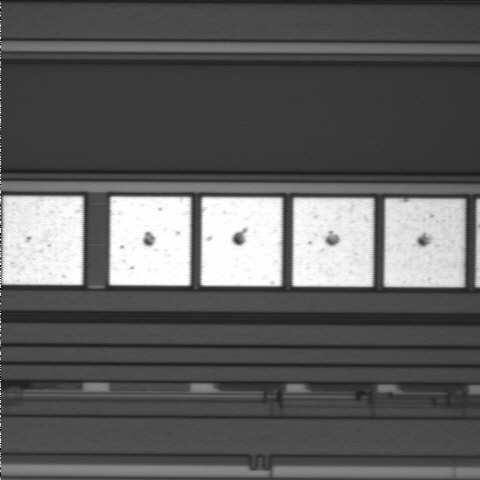pad: (2, 196, 83, 285), (110, 197, 191, 286), (201, 197, 282, 286), (293, 198, 374, 287), (384, 199, 465, 287)
